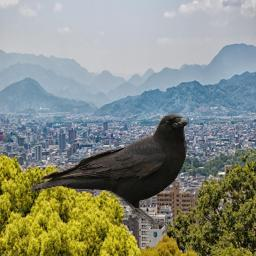Crow: (30, 113, 188, 227)
